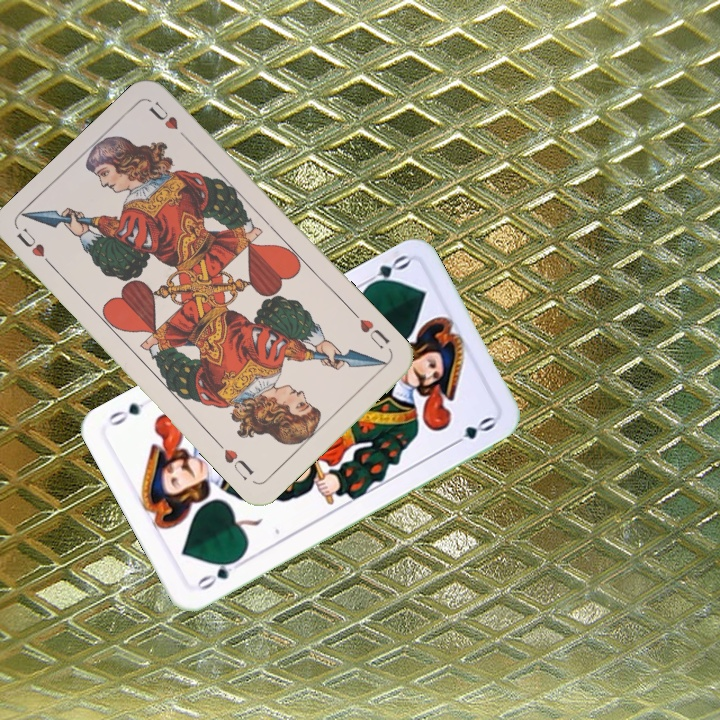GO: (357, 250, 413, 293), (191, 554, 246, 593)
HU: (13, 224, 59, 273), (349, 308, 392, 350)
